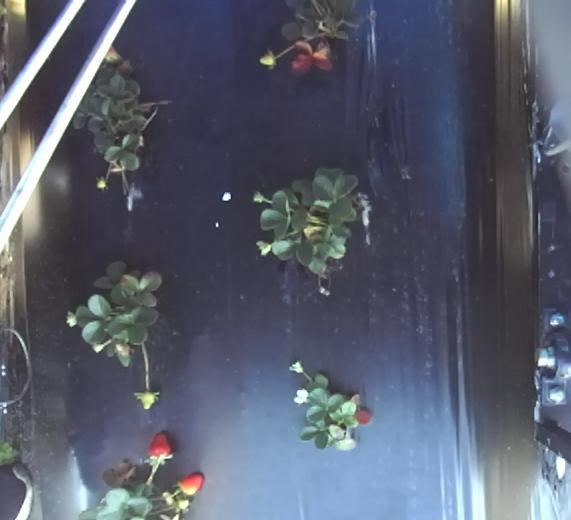mature: (147, 430, 172, 460), (177, 470, 204, 496), (352, 405, 371, 425)
